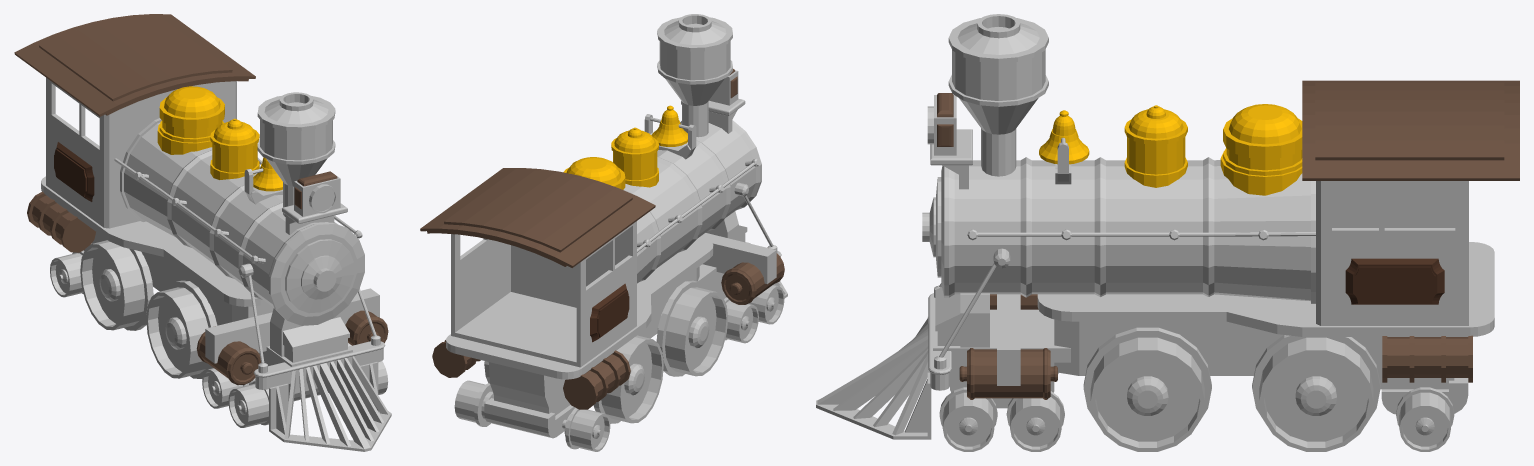
The model's file is Train_head.obj.
The picture shows the model from 3 angles, left to right: view 1: azimuth 30°, elevation 25°; view 2: azimuth 150°, elevation 25°; view 3: azimuth 270°, elevation 25°; orthographic projection. The views are drawn at different scales.
Parts seen in each view (by area): view 1: object_51, object_60, object_1, object_50, object_41, object_39, object_68, object_53, object_69, object_48, object_6, object_33 (+23 smaller); view 2: object_60, object_53, object_1, object_51, object_50, object_39, object_41, object_69, object_48, object_25, object_6, object_70 (+11 smaller); view 3: object_51, object_53, object_1, object_45, object_7, object_50, object_60, object_68, object_71, object_69, object_47, object_5 (+16 smaller).
Part boxes in pixels (left/top/right/bottom): object_51: left=120, top=118, right=364, bottom=325; object_60: left=41, top=77, right=323, bottom=401; object_1: left=14, top=14, right=255, bottom=116; object_50: left=257, top=92, right=335, bottom=216; object_41: left=80, top=238, right=153, bottom=330; object_39: left=146, top=280, right=217, bottom=378; object_68: left=157, top=86, right=224, bottom=154; object_53: left=172, top=81, right=385, bottom=395; object_69: left=210, top=118, right=259, bottom=179; object_48: left=27, top=191, right=95, bottom=252; object_6: left=196, top=326, right=260, bottom=385; object_33: left=269, top=383, right=367, bottom=451; object_60: left=506, top=211, right=781, bottom=438; object_53: left=446, top=234, right=571, bottom=430; object_1: left=420, top=168, right=655, bottom=267; object_51: left=623, top=120, right=761, bottom=283; object_50: left=657, top=14, right=732, bottom=137; object_39: left=656, top=280, right=727, bottom=376; object_41: left=593, top=333, right=663, bottom=423; object_69: left=611, top=127, right=658, bottom=187; object_48: left=563, top=350, right=630, bottom=409; object_25: left=562, top=407, right=610, bottom=451; object_6: left=721, top=247, right=784, bottom=304; object_70: left=590, top=283, right=629, bottom=342; object_51: left=922, top=157, right=1315, bottom=303; object_53: left=928, top=181, right=1494, bottom=414; object_1: left=1302, top=80, right=1519, bottom=180; object_45: left=1083, top=327, right=1211, bottom=451; object_7: left=1252, top=335, right=1380, bottom=451; object_50: left=948, top=14, right=1048, bottom=176; object_60: left=928, top=190, right=1494, bottom=332; object_68: left=1220, top=104, right=1302, bottom=195; object_71: left=1345, top=258, right=1444, bottom=304; object_69: left=1124, top=105, right=1187, bottom=187; object_47: left=1382, top=335, right=1472, bottom=382; object_5: left=959, top=348, right=1057, bottom=399.
Size of the model in its own units: 41.25 by 71.79 by 117.
